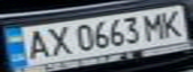0: (72, 21, 96, 52)
3: (121, 14, 145, 45)
6: (90, 18, 112, 50), (109, 16, 127, 47)
A: (18, 27, 54, 61)
K: (157, 7, 190, 38)
M: (139, 10, 172, 40)
X: (42, 24, 72, 57)
